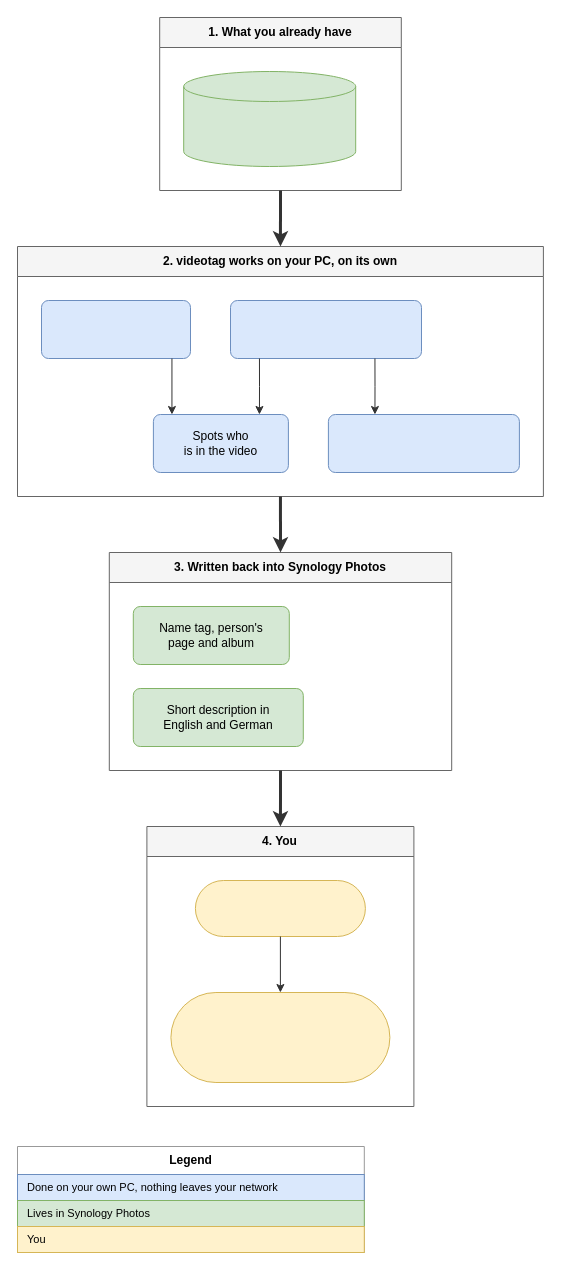
This 561x1270 diagram has some shape labels left out. Here are the shapes that lost their labels. From the top down, the centre of each, then its label:
point 269,118: Your Photos library: photos, videos, named people
point 115,329: Learns what each person looks like
point 326,329: Watches each video and picks a few moments
point 423,443: Describes what happens: topics, objects, places
point 279,908: Search and browse in Photos as usual
point 280,1037: Fix anything wrong there. The tool learns from it and never undoes your fixes
